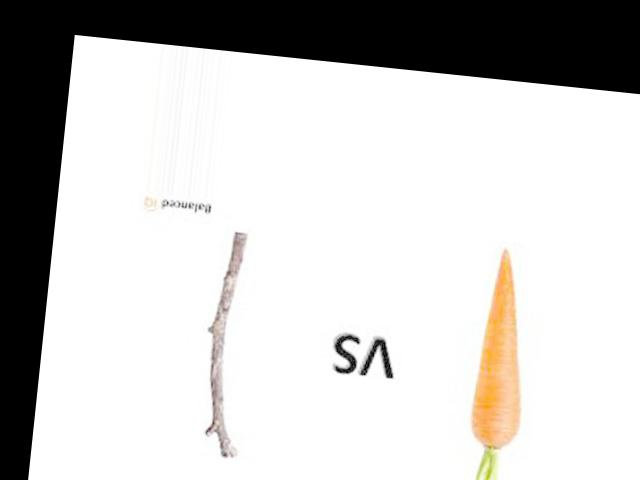carrot: (457, 238, 540, 461)
